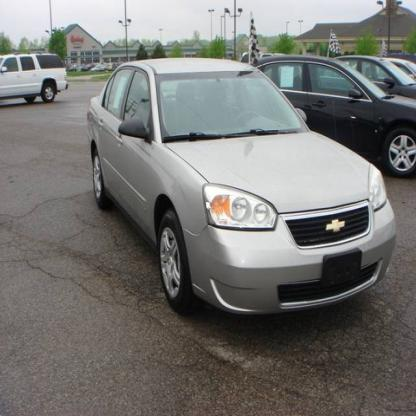Vehicle: (88, 64, 396, 316)
